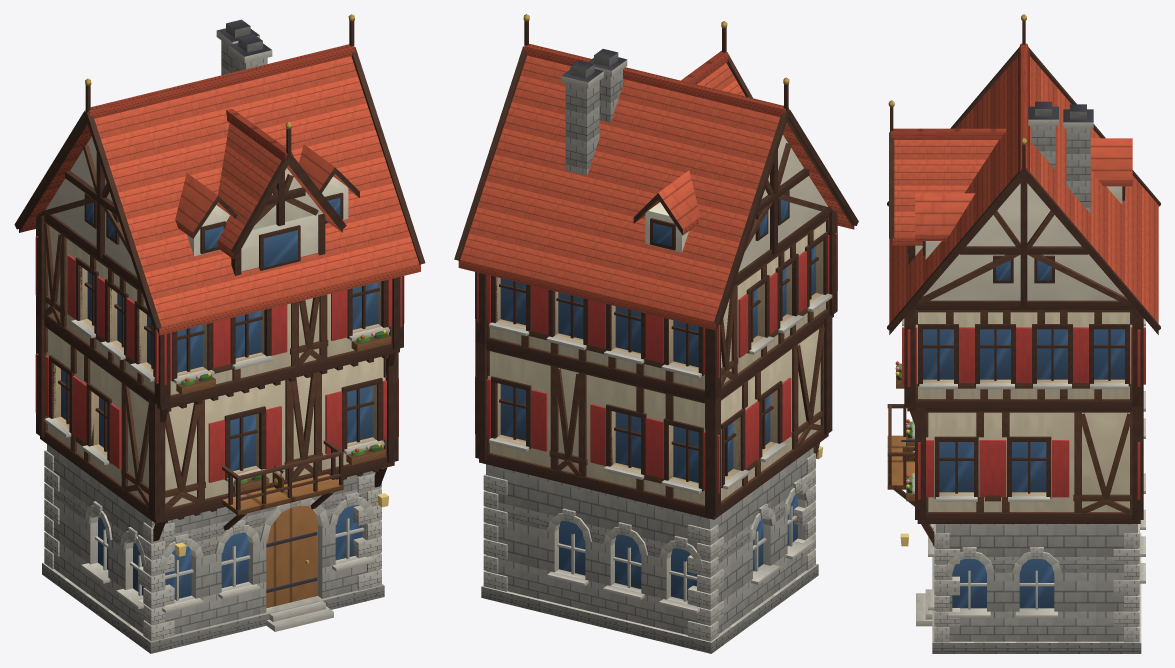
Rendered from biz_tavern_01.glb.
The picture shows the model from 3 angles, left to right: view 1: azimuth 30°, elevation 25°; view 2: azimuth 150°, elevation 25°; view 3: azimuth 270°, elevation 25°; orthographic projection. The views are drawn at different scales.
Parts seen in each view (by area): view 1: biz_tavern_01; view 2: biz_tavern_01; view 3: biz_tavern_01.
Boxes of the visible parts, box(x1,y1,x2,y2) form: biz_tavern_01: box(14, 14, 425, 653); biz_tavern_01: box(454, 14, 858, 653); biz_tavern_01: box(887, 14, 1160, 653).
Bounding box in the file's own units: 8.65 × 16.71 × 7.92.
Materials: 1 (1 with a texture image).
